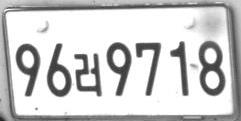1: (168, 40, 195, 96)
6: (45, 43, 71, 96)
7: (135, 42, 162, 96)
8: (198, 40, 226, 96)
9: (105, 41, 132, 96), (15, 43, 40, 96)
러: (74, 53, 102, 96)
